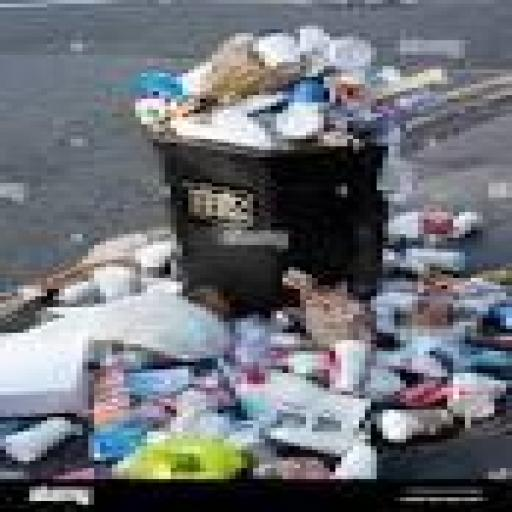poubelle_pleine: (87, 41, 496, 339)
